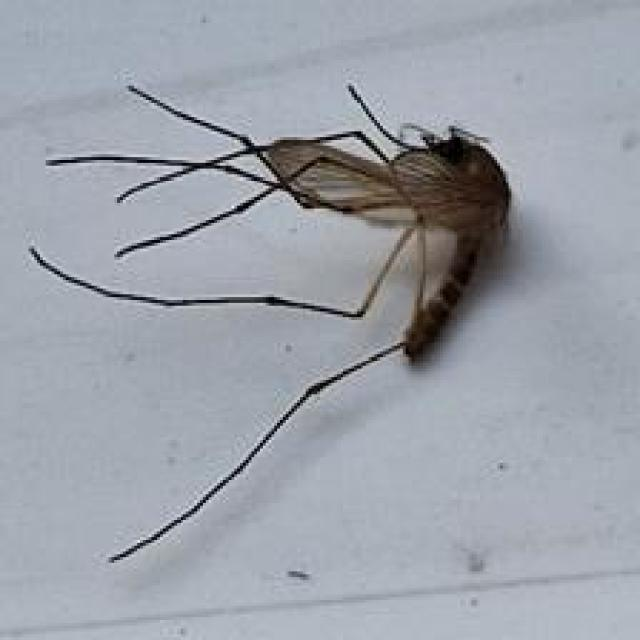Culex: (27, 79, 513, 564)
